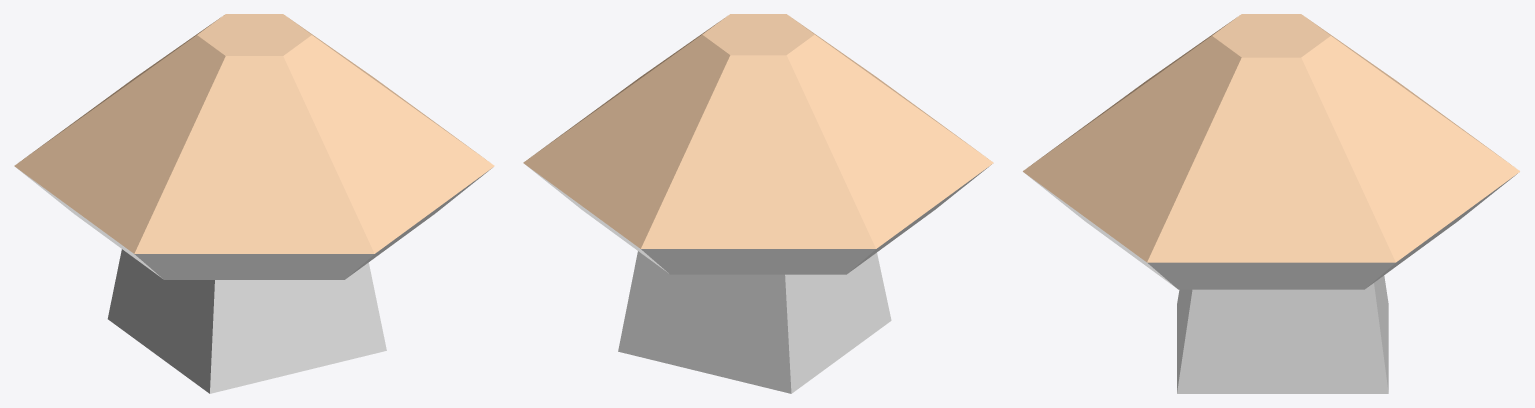
Rendered from mushroom_tan.glb.
3 views of the same model, side by side, from view 1: azimuth 30°, elevation 25°; view 2: azimuth 150°, elevation 25°; view 3: azimuth 270°, elevation 25° (orthographic). The views are drawn at different scales.
Parts seen in each view (by area): view 1: mushroom_tan; view 2: mushroom_tan; view 3: mushroom_tan.
Boxes of the visible parts, bbox=[...] form: mushroom_tan: bbox=[14, 14, 494, 393]; mushroom_tan: bbox=[523, 14, 993, 393]; mushroom_tan: bbox=[1023, 14, 1519, 393].
Bounding box in the file's own units: 0.1914 × 0.1539 × 0.221.
Materials: 1 (1 with a texture image).
